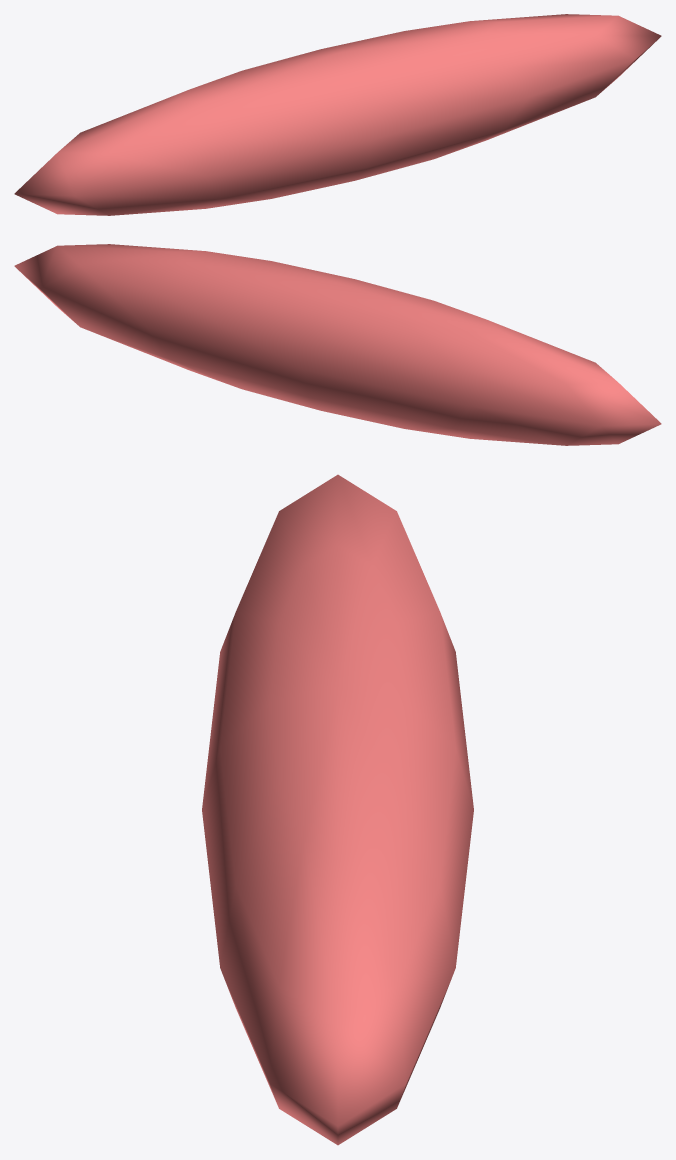
File: LaserPistol.fbx
3 views of the same model, one above another, from view 1: azimuth 30°, elevation 25°; view 2: azimuth 150°, elevation 25°; view 3: azimuth 270°, elevation 25° (orthographic). The views are drawn at different scales.
Visible parts, largest first — view 1: laser_red; view 2: laser_red; view 3: laser_red.
Boxes of the visible parts, <box> form: laser_red: <box>14,14,661,215</box>; laser_red: <box>14,244,661,445</box>; laser_red: <box>202,474,473,1145</box>.
Size of the model in its own units: 0.55 by 0.1 by 0.1.
